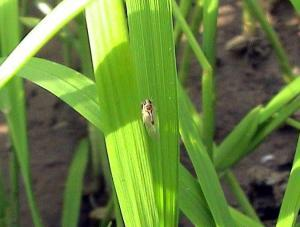Delphacidae: (139, 97, 159, 140)
